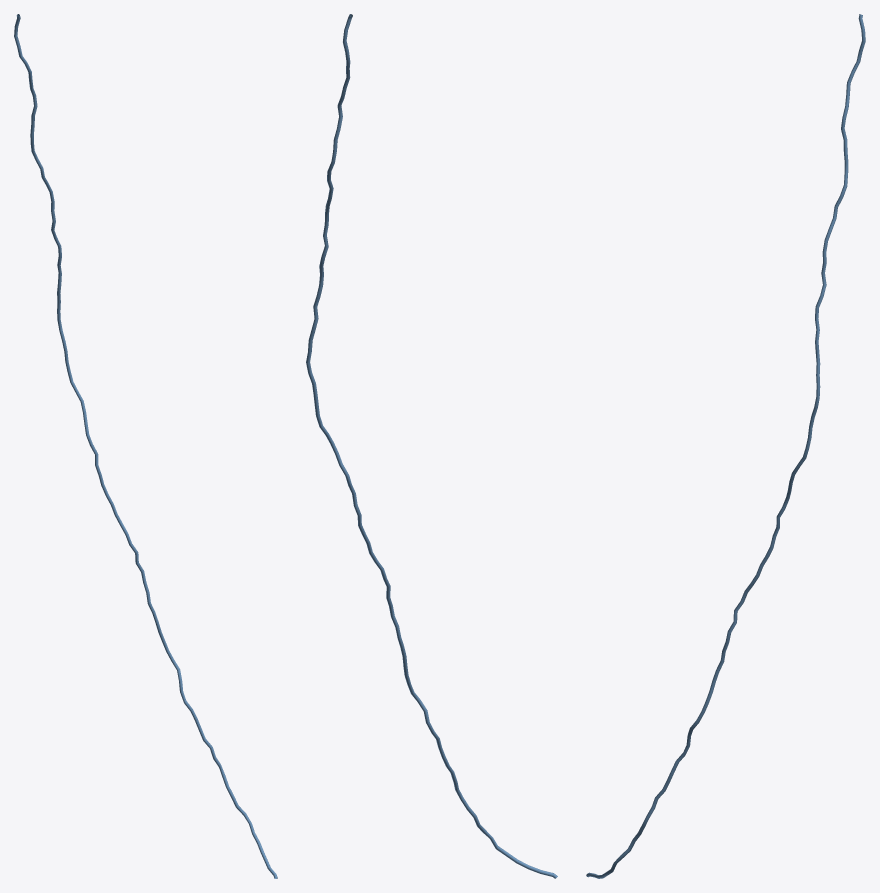
The model's file is sweep317.fbx.
The picture shows the model from 3 angles, left to right: view 1: azimuth 90°, elevation 25°; view 2: azimuth 150°, elevation 25°; view 3: azimuth 270°, elevation 25°; orthographic projection. The views are drawn at different scales.
Parts seen in each view (by area): view 1: sweep317; view 2: sweep317; view 3: sweep317.
Part boxes in pixels (x1,y1,x2,y2): sweep317: (14,14,277,878); sweep317: (306,14,557,878); sweep317: (586,14,865,878).
Bounding box in the file's own units: 0.7274 × 5.21 × 1.49.
